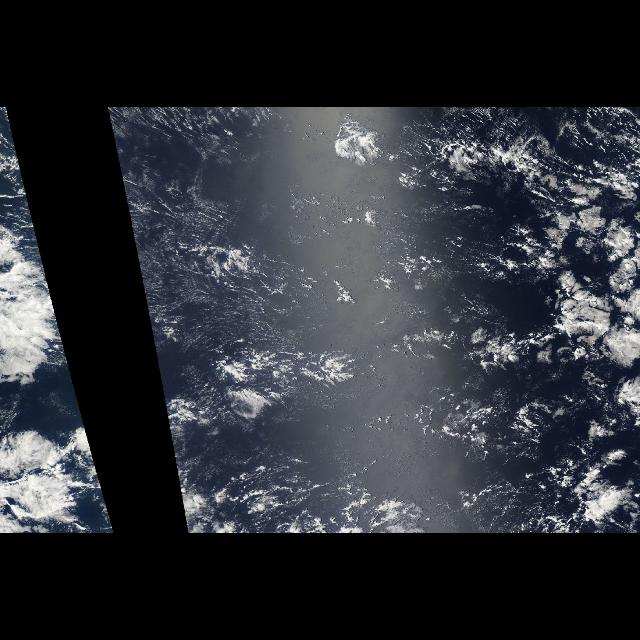Flower: (531, 178, 637, 530)
Sugar: (124, 168, 530, 438)
